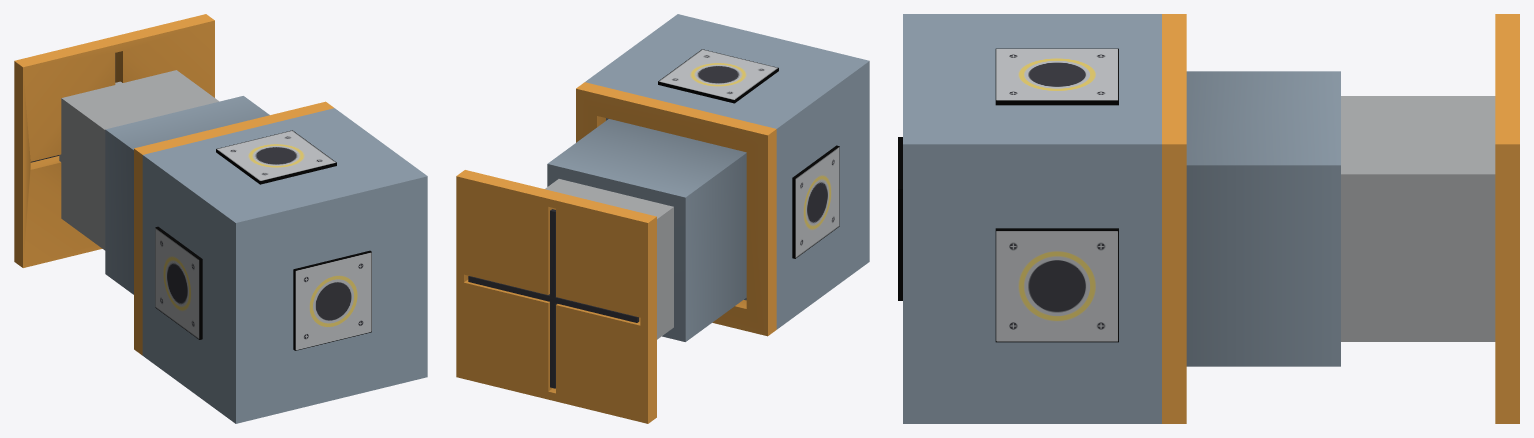
Rendered from extended.glb.
3 views of the same model, side by side, from view 1: azimuth 30°, elevation 25°; view 2: azimuth 150°, elevation 25°; view 3: azimuth 270°, elevation 25° (orthographic). The views are drawn at different scales.
Visible parts, largest first — view 1: Body, Head, Stage, NegY, NegX, PosZ; view 2: Head, Body, Stage, NegX, PosZ; view 3: Body, Head, Stage, PosX, PosZ, NegY.
Part boxes in pixels (box(x1,y1,x2,y2)): Body: box(134, 101, 427, 423); Head: box(14, 14, 219, 267); Stage: box(105, 96, 269, 294); NegY: box(293, 250, 371, 350); NegX: box(155, 226, 202, 339); PosZ: box(216, 130, 336, 184); Head: box(456, 170, 673, 423); Body: box(576, 14, 869, 336); Stage: box(547, 119, 746, 341); NegX: box(792, 145, 839, 258); PosZ: box(658, 49, 778, 103); Body: box(903, 14, 1186, 423); Head: box(1341, 14, 1519, 423); Stage: box(1186, 71, 1340, 366); PosX: box(995, 228, 1118, 342); PosZ: box(995, 48, 1118, 105); NegY: box(898, 137, 902, 300).
Bounding box in the file's own units: 1.03 × 1.03 × 2.02.
Materials: 5 (1 with a texture image).
